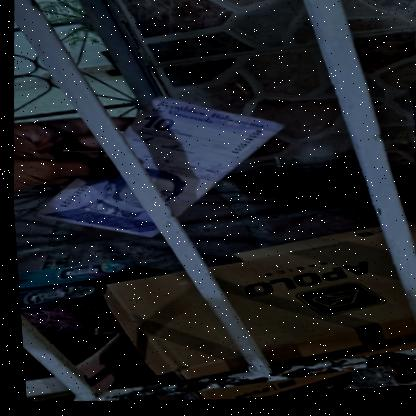ten-front-vef: (159, 2, 332, 267)
